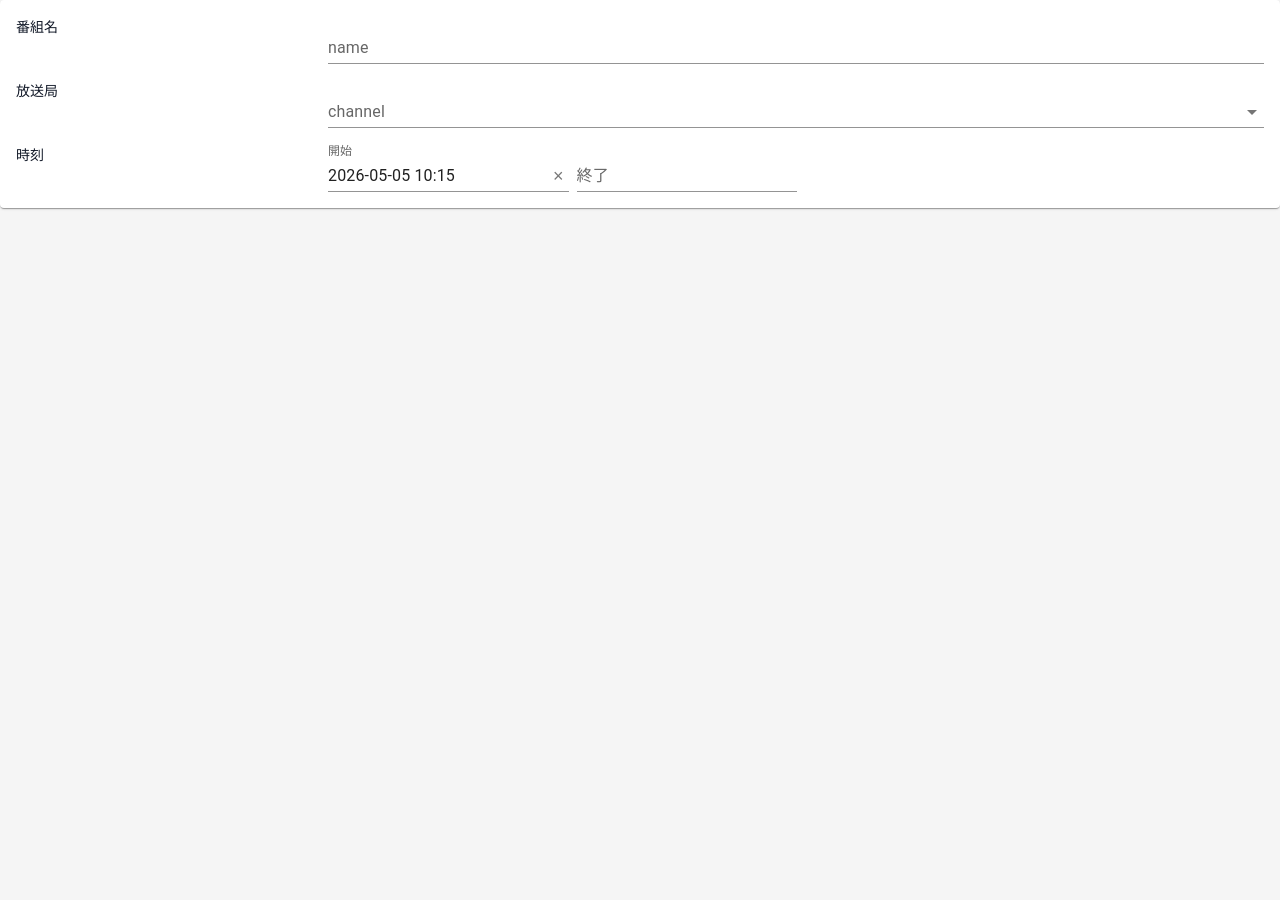
Test case: ManualTimeSpecifiedFields date-time picker dialog › [AC 4.23] opens the end field dialog empty and clears the start value from the dialog クリア button
The width and height of the screenshot is (1280, 900).
Click the field labelled "終了" at (686, 176), box [576,160,796,192]
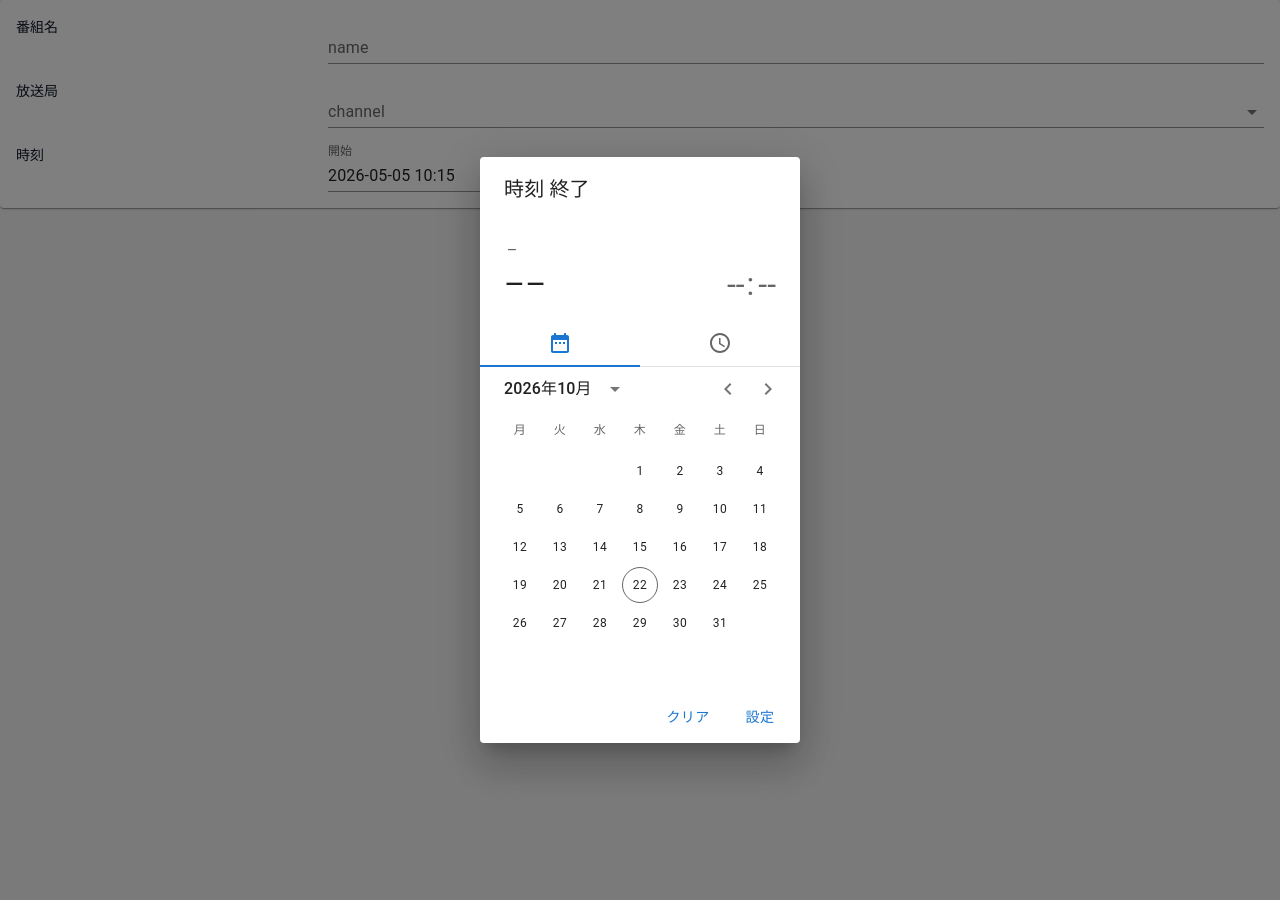
Press Escape in the dialog "時刻 終了", box [480,156,800,743]
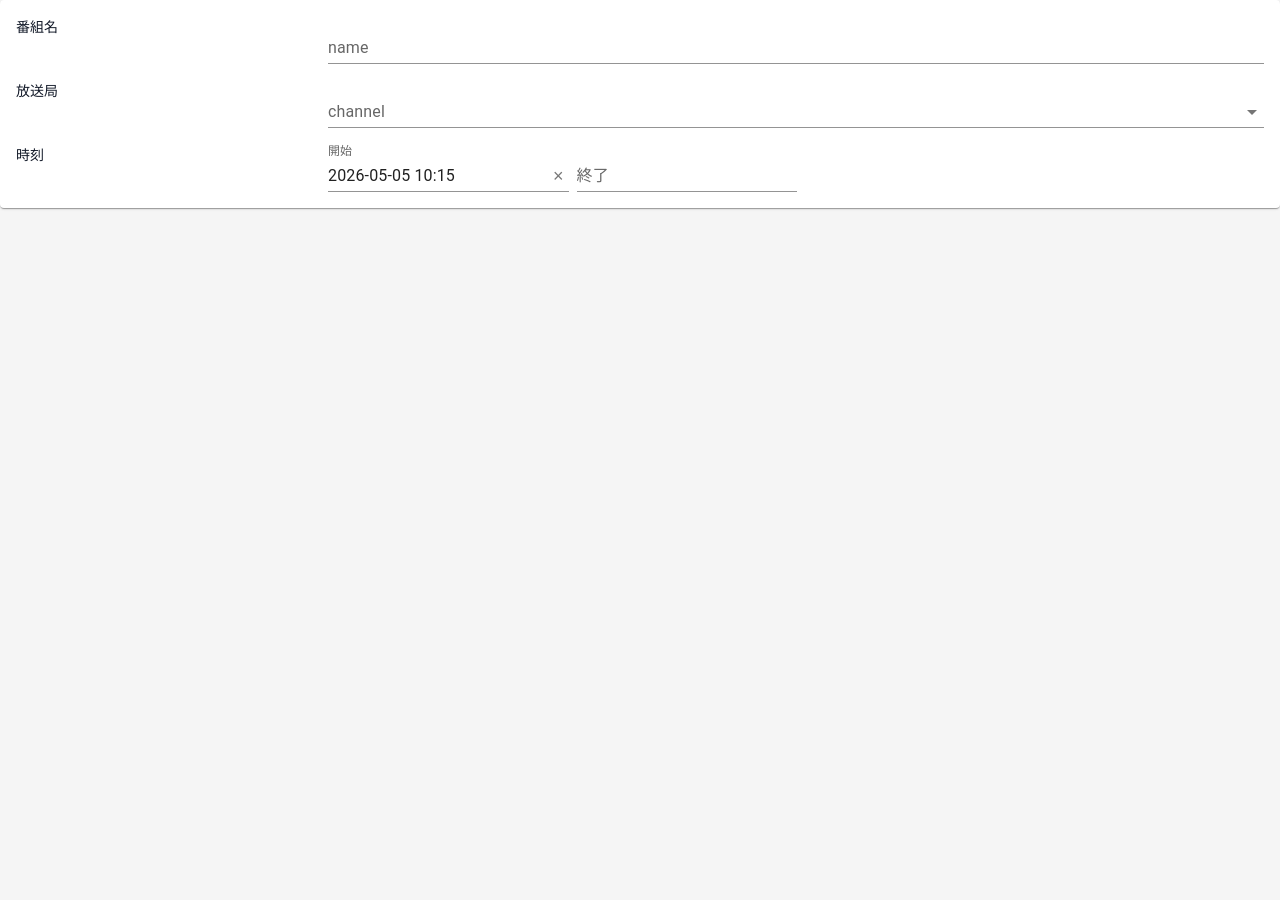
Now the heading "時刻 終了" is gone
Click the field labelled "開始" at (438, 176), box [328,160,548,192]
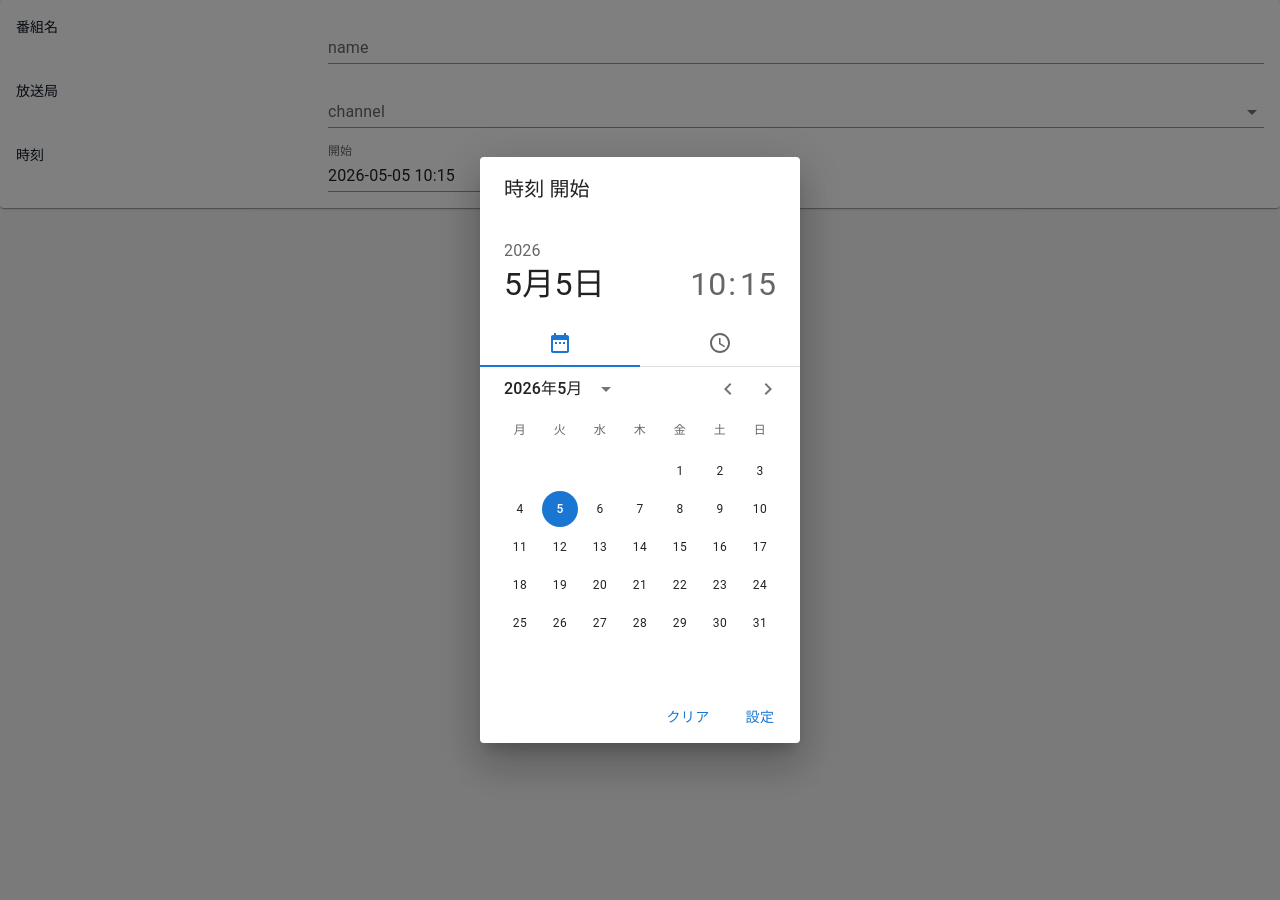
Click the button "クリア" at (688, 717), box [656,699,720,735]
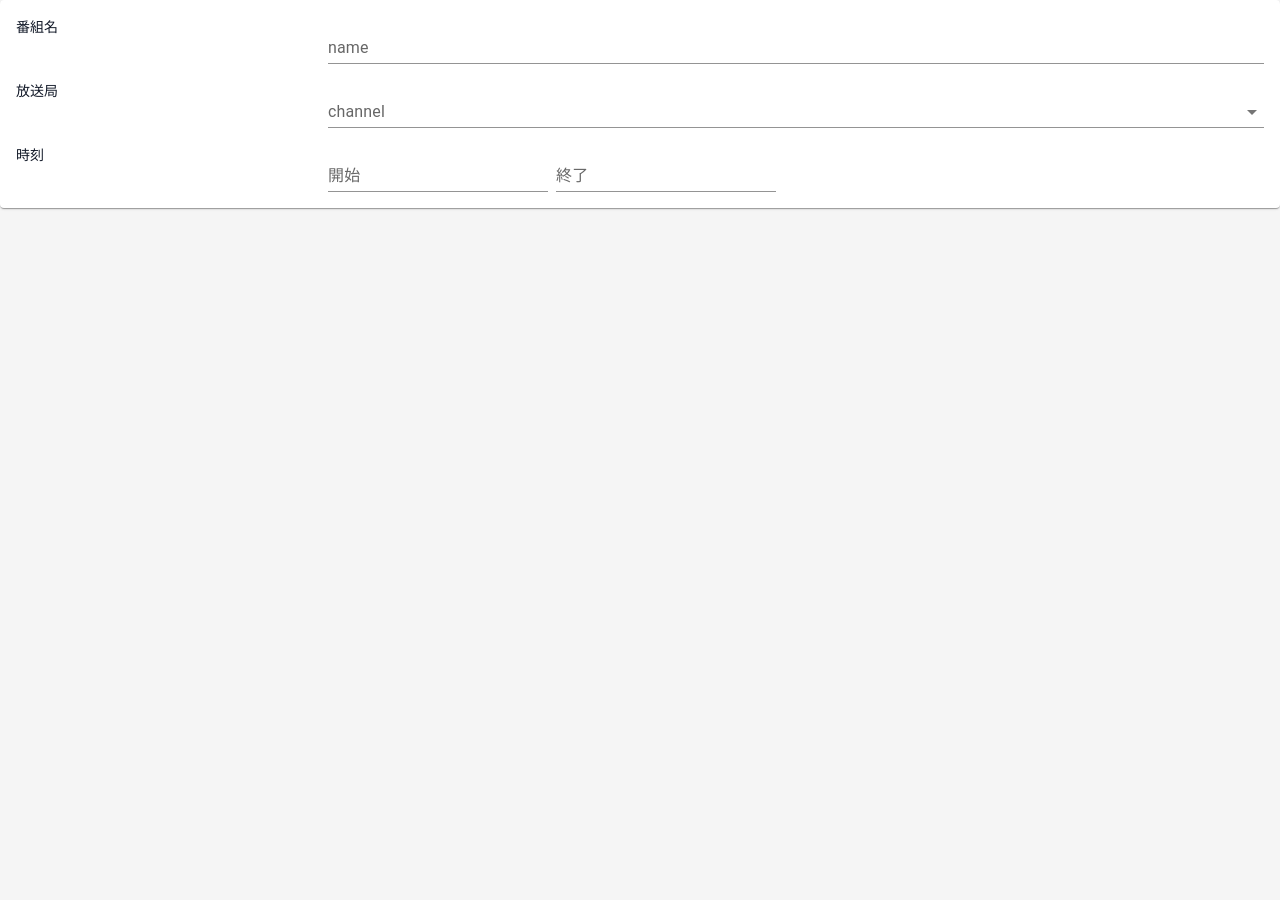
Now the field labelled "開始" is empty, box [328,160,548,192]
